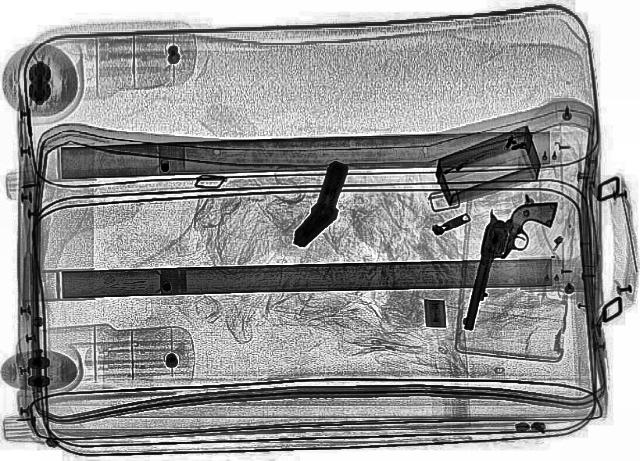Gun: (458, 194, 558, 338), (287, 159, 359, 250)
